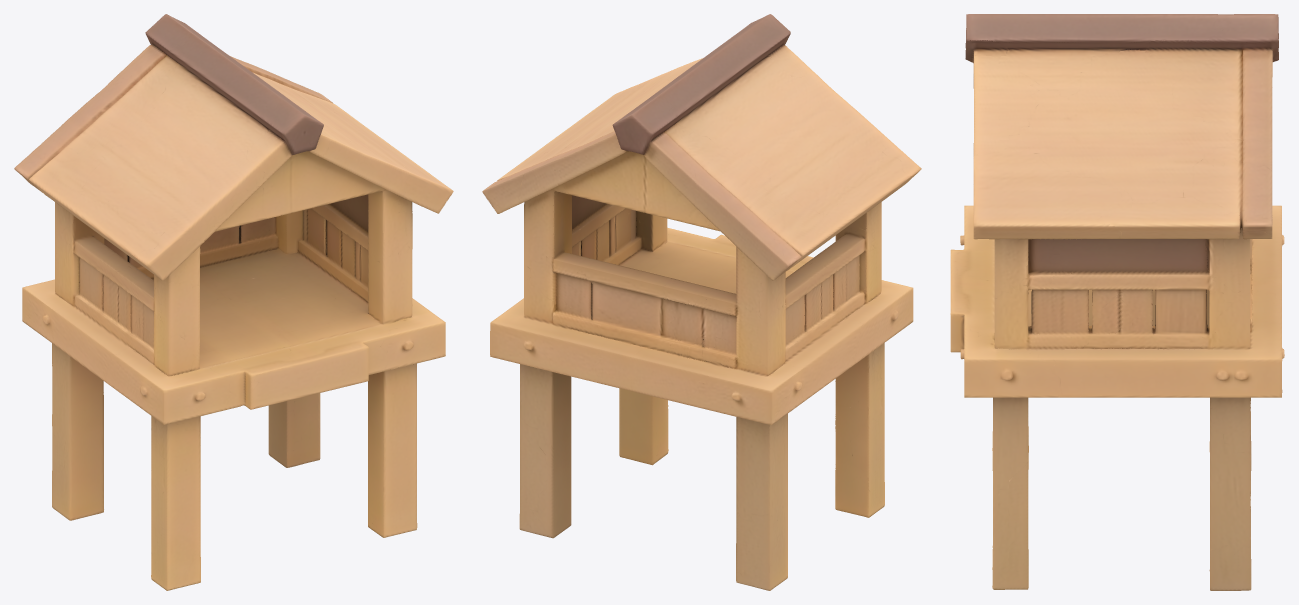
The model's file is base_basic_shaded.fbx.
The picture shows the model from 3 angles, left to right: view 1: azimuth 30°, elevation 25°; view 2: azimuth 150°, elevation 25°; view 3: azimuth 270°, elevation 25°; orthographic projection. The views are drawn at different scales.
Visible parts, largest first — view 1: model; view 2: model; view 3: model.
Part boxes in pixels (x1=…): model: x1=14, y1=14, x2=453, y2=590; model: x1=482, y1=14, x2=921, y2=590; model: x1=950, y1=14, x2=1284, y2=590.
Bounding box in the file's own units: 121 × 172 × 102.
